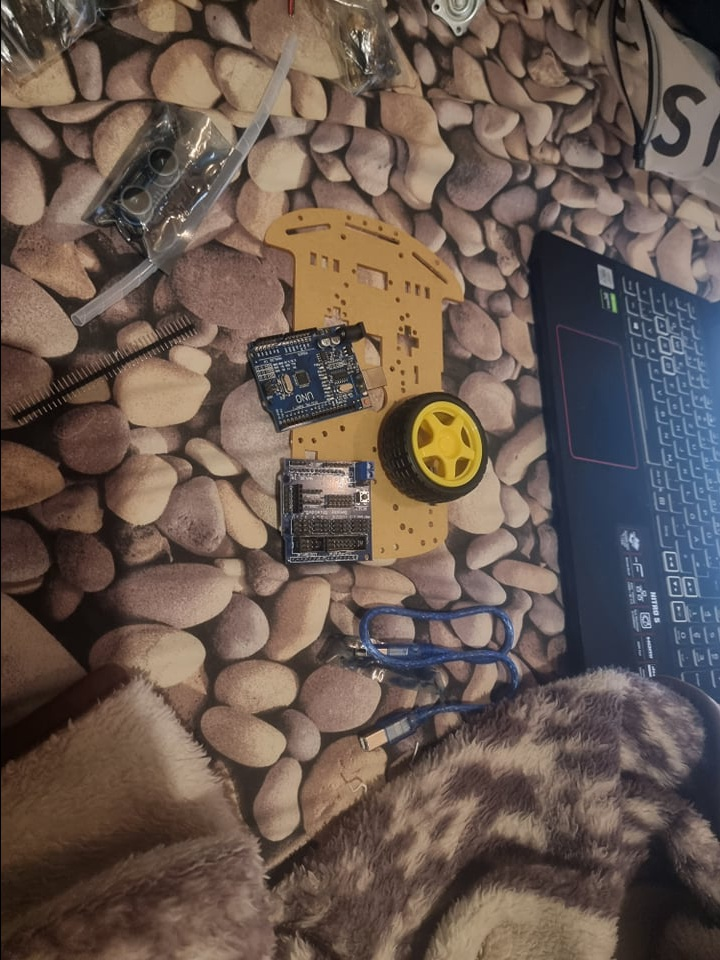5V EXPANSION: (245, 319, 366, 433), (277, 459, 377, 564)
SENSOR: (111, 145, 184, 223)
